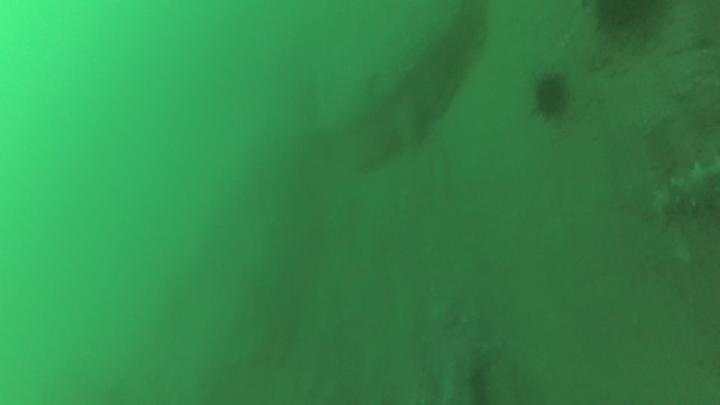echinus: (587, 1, 674, 45), (528, 69, 574, 123)
holothurian: (649, 155, 720, 223)
